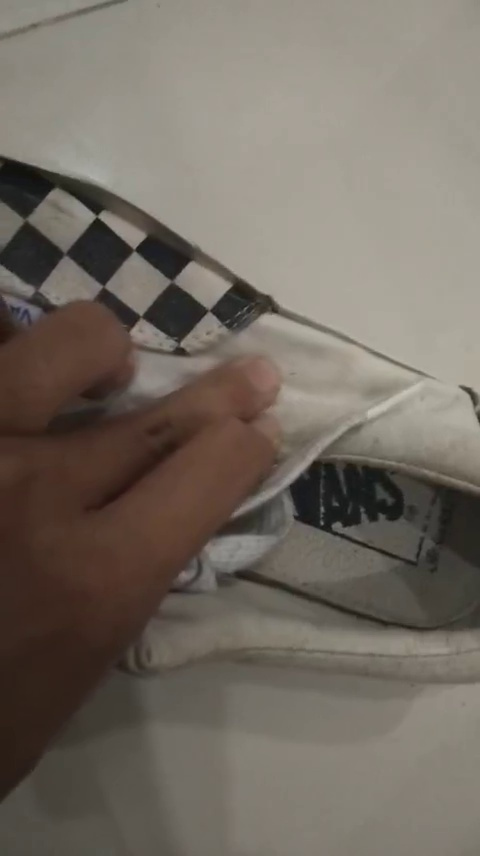bonding: (19, 159, 267, 301)
